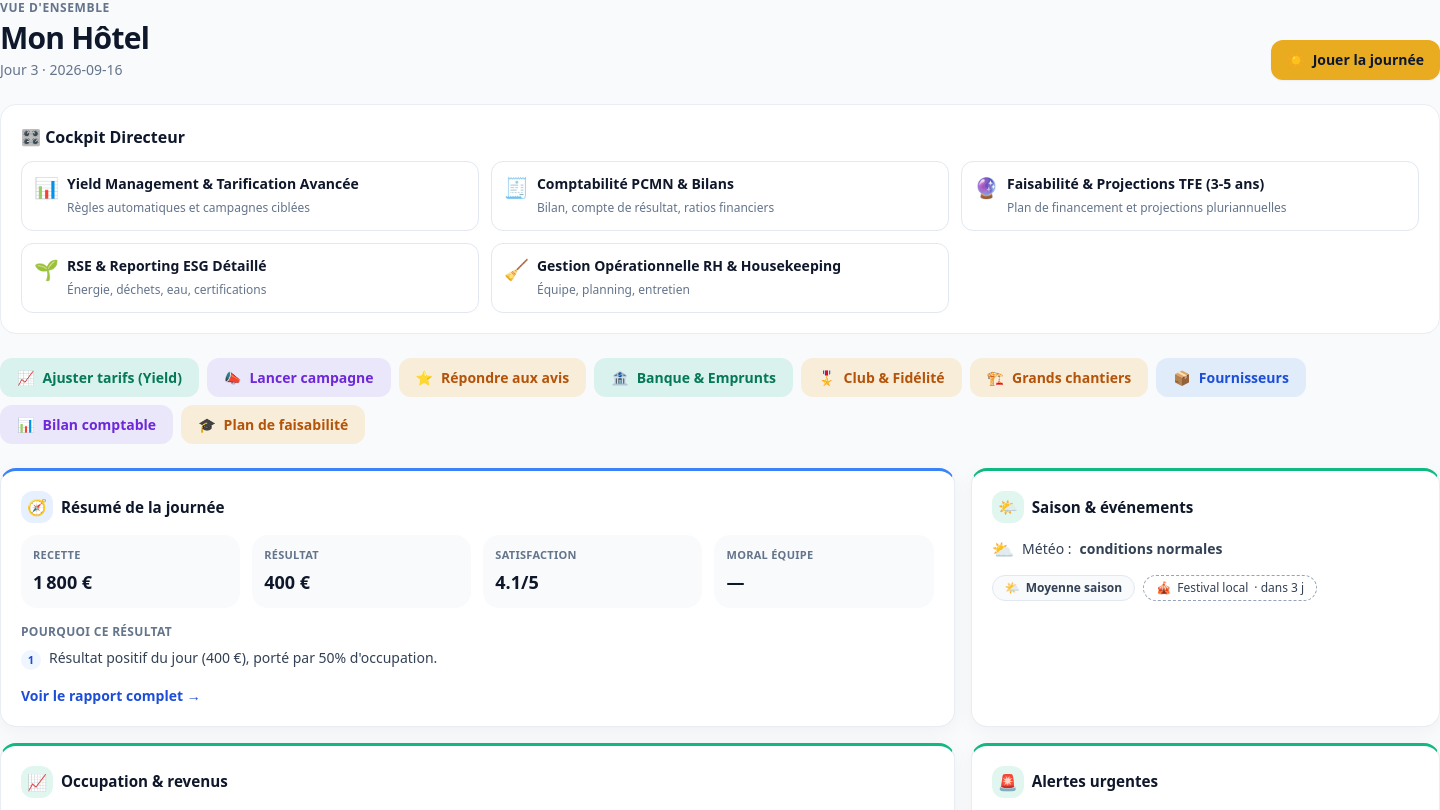
Test case: Dashboard / suppliers & equipment catalogue › opens the desk from there
Click the button with test id "quick-suppliers".
click(1231, 378)  # box x1=1156 y1=358 x2=1306 y2=397
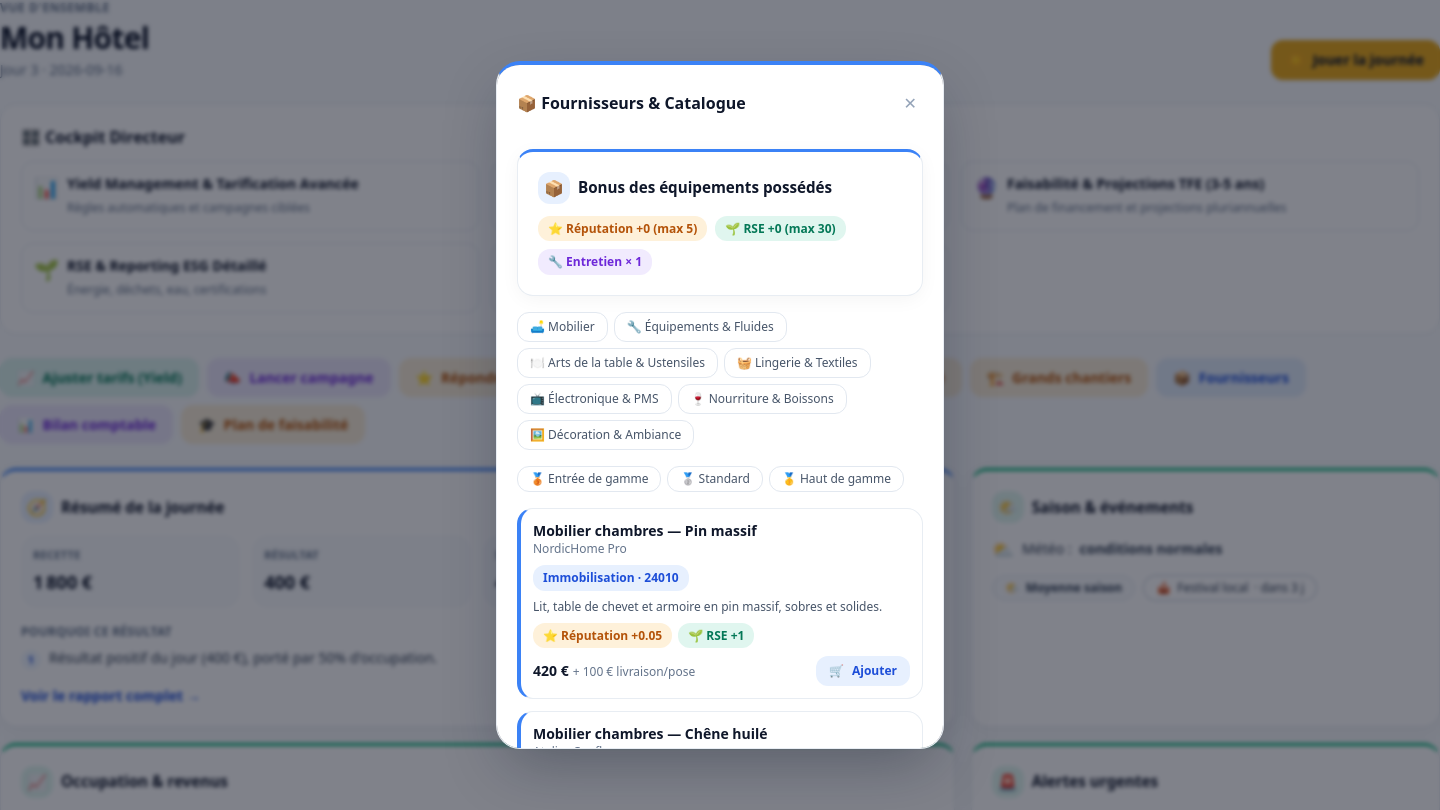
Expected: the dialog "Fournisseurs & Catalogue" is shown
